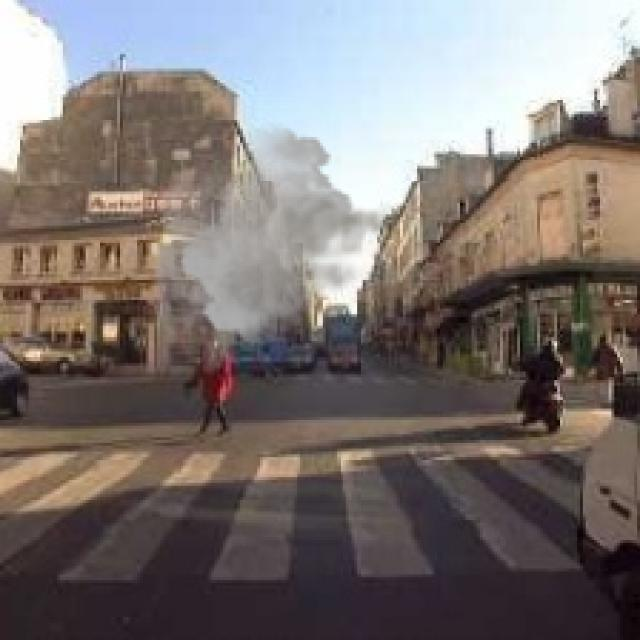smoke: (146, 123, 403, 377)
